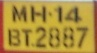character: (65, 6, 82, 23), (11, 4, 27, 22), (48, 26, 61, 48), (7, 27, 21, 47), (75, 25, 87, 48), (30, 5, 46, 22), (35, 26, 47, 48), (62, 26, 74, 48), (21, 27, 32, 47), (55, 5, 63, 22)
